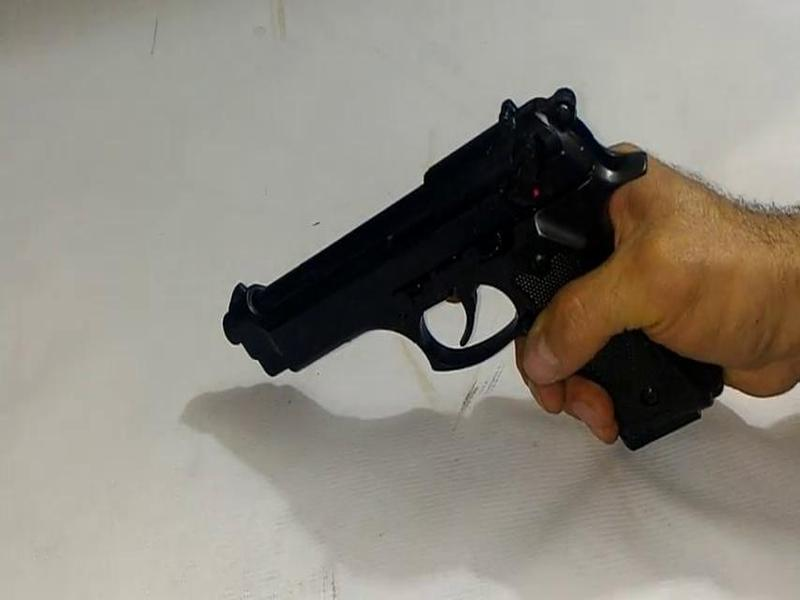Pistola: (177, 64, 763, 468)
